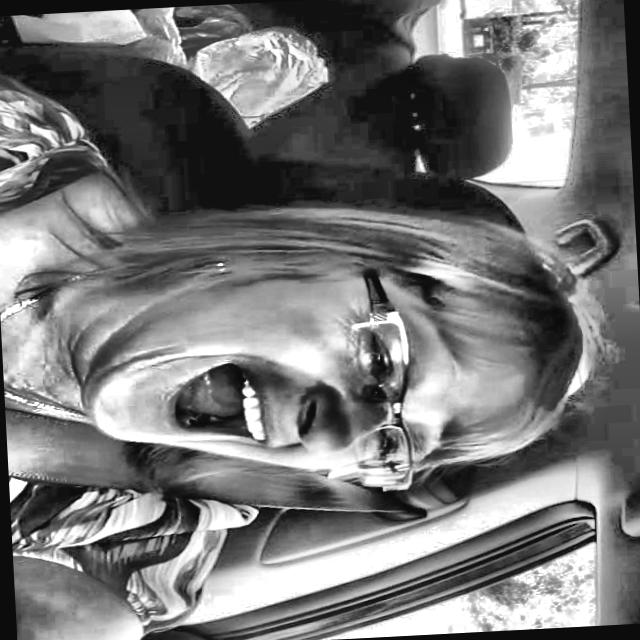open_eyes: (351, 316, 404, 397), (366, 420, 410, 480)
open_mouth: (155, 335, 284, 469)
